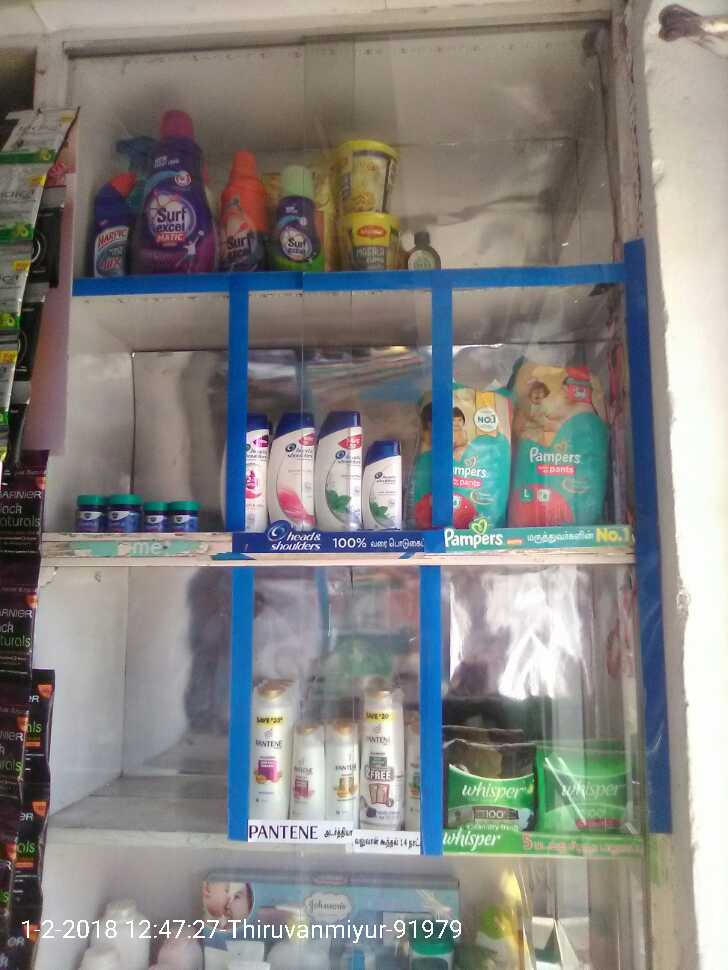vicks: (71, 483, 202, 531)
